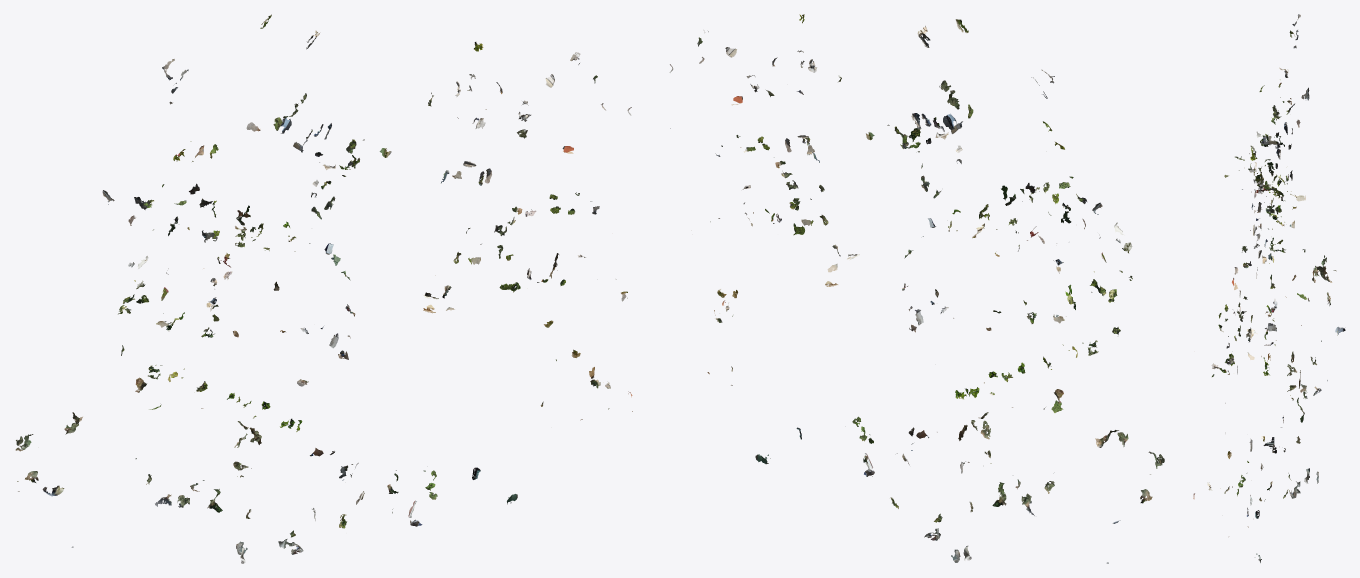
The model's file is tile_7.glb.
The picture shows the model from 3 angles, left to right: view 1: azimuth 30°, elevation 25°; view 2: azimuth 150°, elevation 25°; view 3: azimuth 270°, elevation 25°; orthographic projection. The views are drawn at different scales.
Size of the model in its own units: 172 by 159 by 47.73.
Materials: 1 (1 with a texture image).
